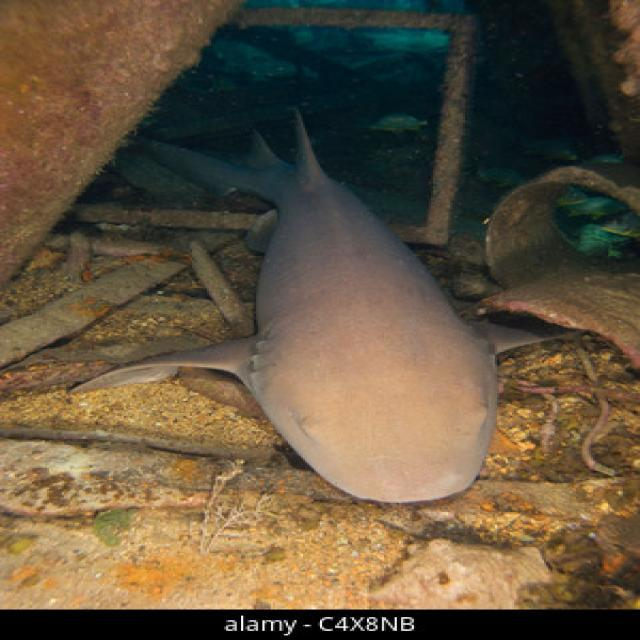Shark: (111, 126, 572, 534)
